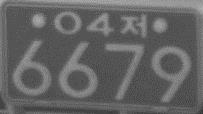0: (53, 9, 83, 35)
4: (86, 11, 114, 37)
6: (57, 41, 98, 98), (12, 40, 52, 96)
7: (104, 42, 145, 101)
9: (151, 44, 192, 103)
저: (119, 13, 147, 38)
